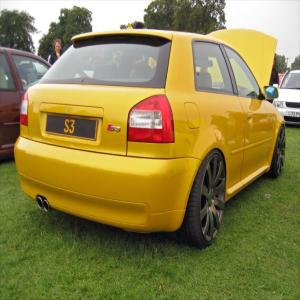Vehicle-registration-plate: (44, 105, 99, 146), (289, 112, 300, 116)
